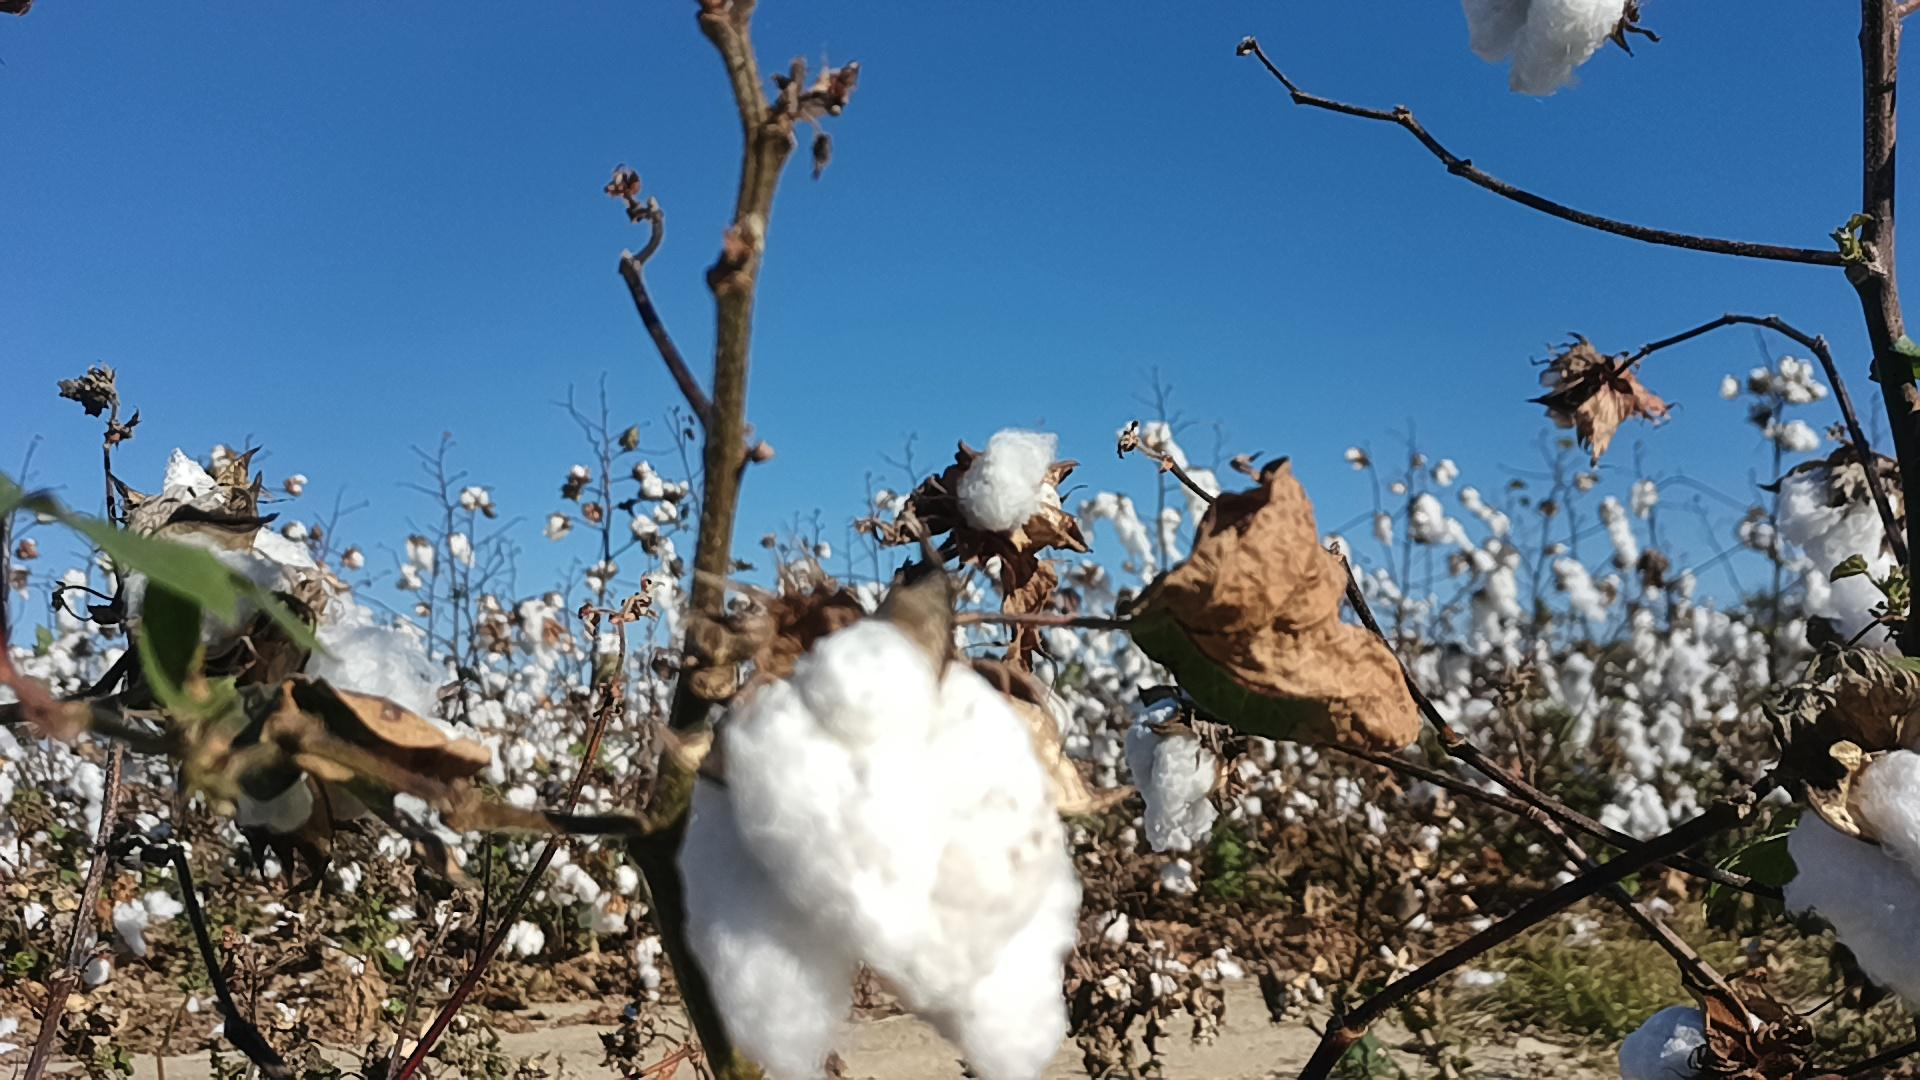cotton_ready: (680, 622, 1081, 1080), (194, 620, 460, 828), (128, 446, 353, 647), (1780, 750, 1920, 1019), (1461, 0, 1626, 98), (1775, 465, 1905, 587), (1127, 721, 1228, 856), (1618, 1007, 1763, 1080), (957, 431, 1058, 533), (82, 887, 189, 981), (1830, 574, 1916, 655), (1534, 356, 1604, 429)
